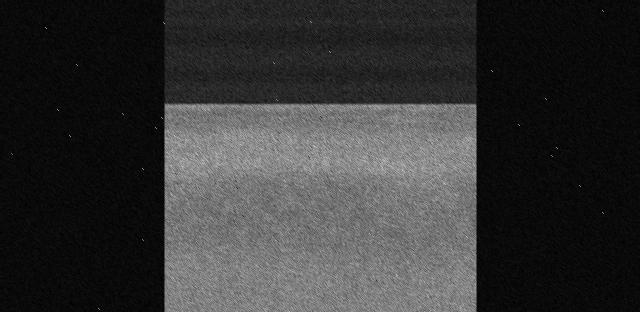silk_spot: (182, 166, 459, 296)
